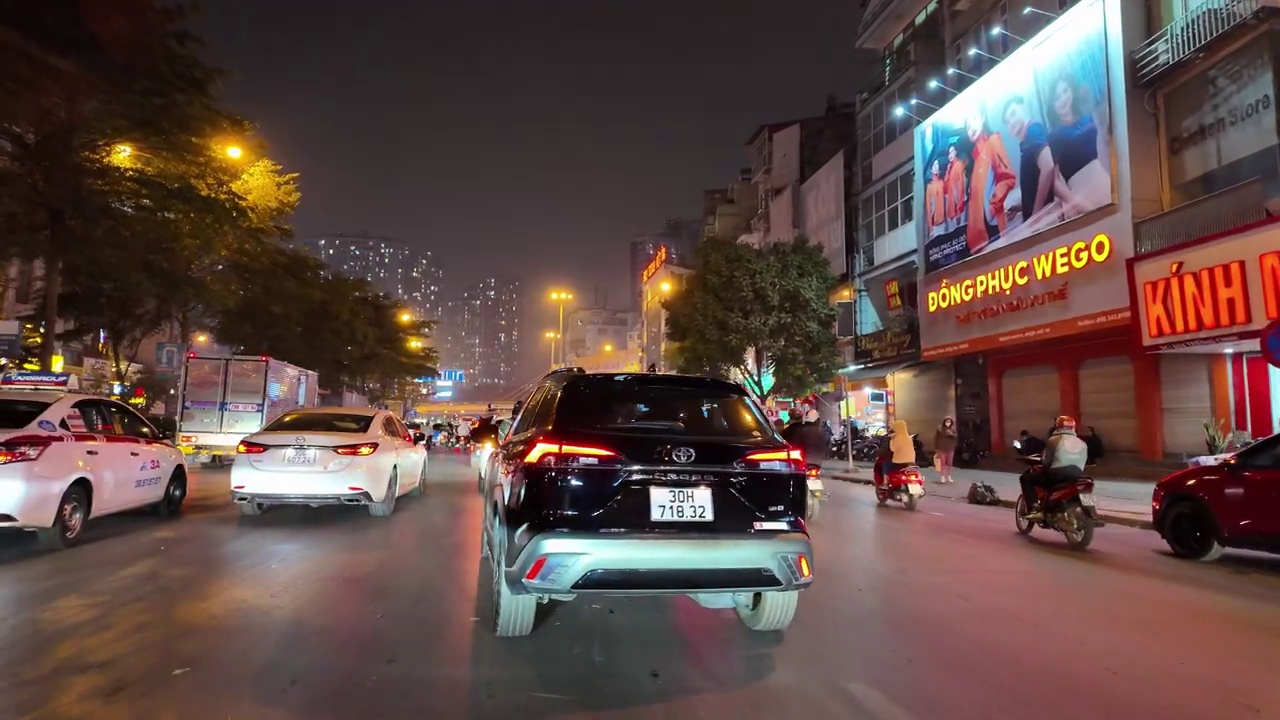acesa: (644, 264, 685, 310), (216, 138, 251, 166), (394, 306, 424, 333), (544, 284, 575, 310)
